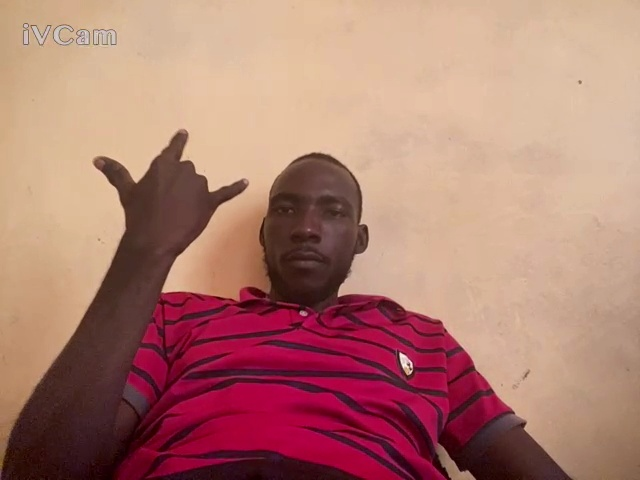je t'aime: (85, 124, 251, 266)
